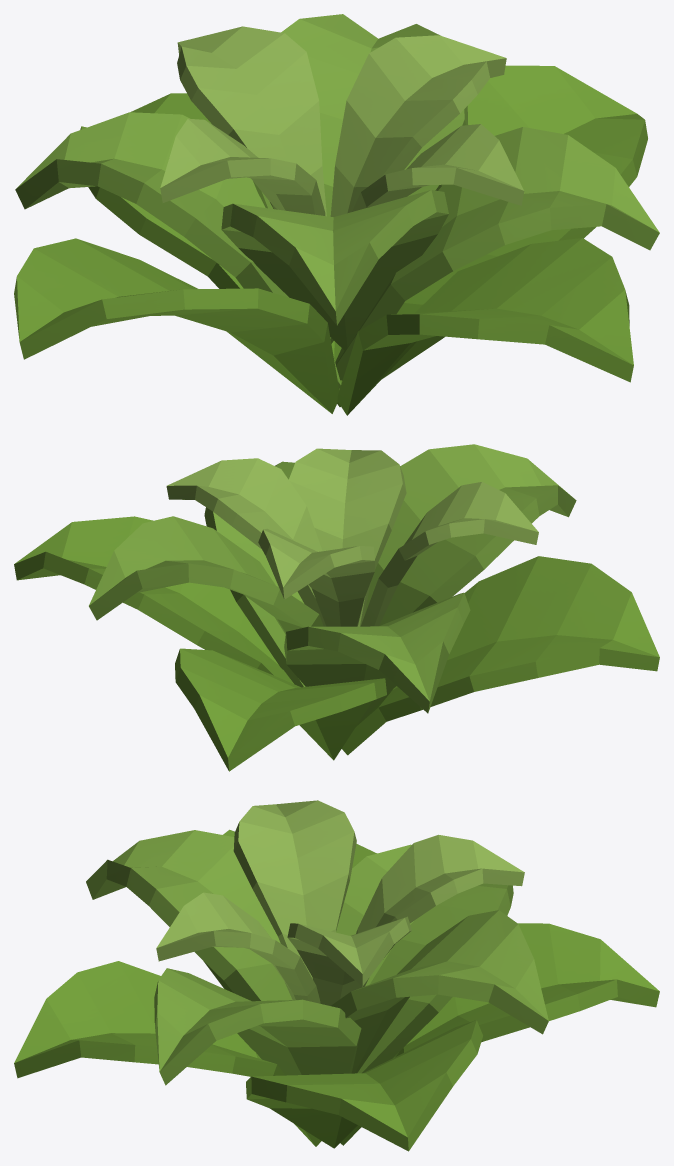
File: shrub.fbx
3 views of the same model, one above another, from view 1: azimuth 30°, elevation 25°; view 2: azimuth 150°, elevation 25°; view 3: azimuth 270°, elevation 25° (orthographic). The views are drawn at different scales.
Parts seen in each view (by area): view 1: shrub; view 2: shrub; view 3: shrub.
Boxes of the visible parts, x1=… form: shrub: x1=14, y1=14, x2=659, y2=415; shrub: x1=14, y1=444, x2=659, y2=771; shrub: x1=14, y1=800, x2=659, y2=1151.
Bounding box in the file's own units: 179 × 78.43 × 167.
